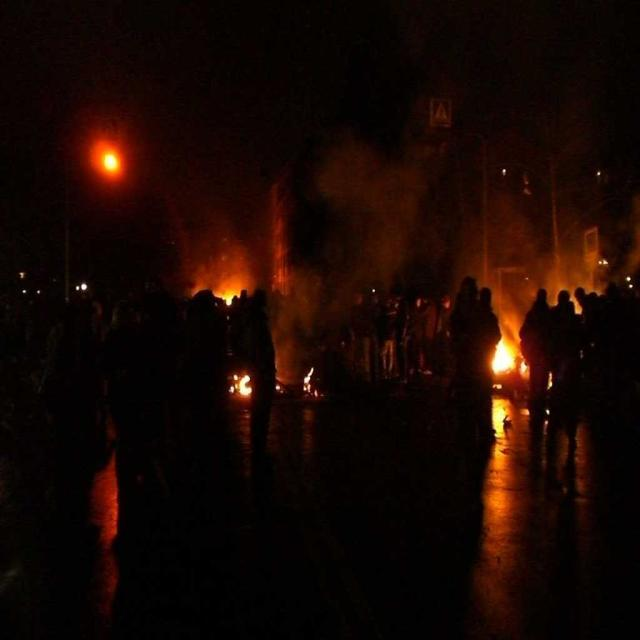Fire: (487, 318, 538, 398), (196, 272, 272, 306)
